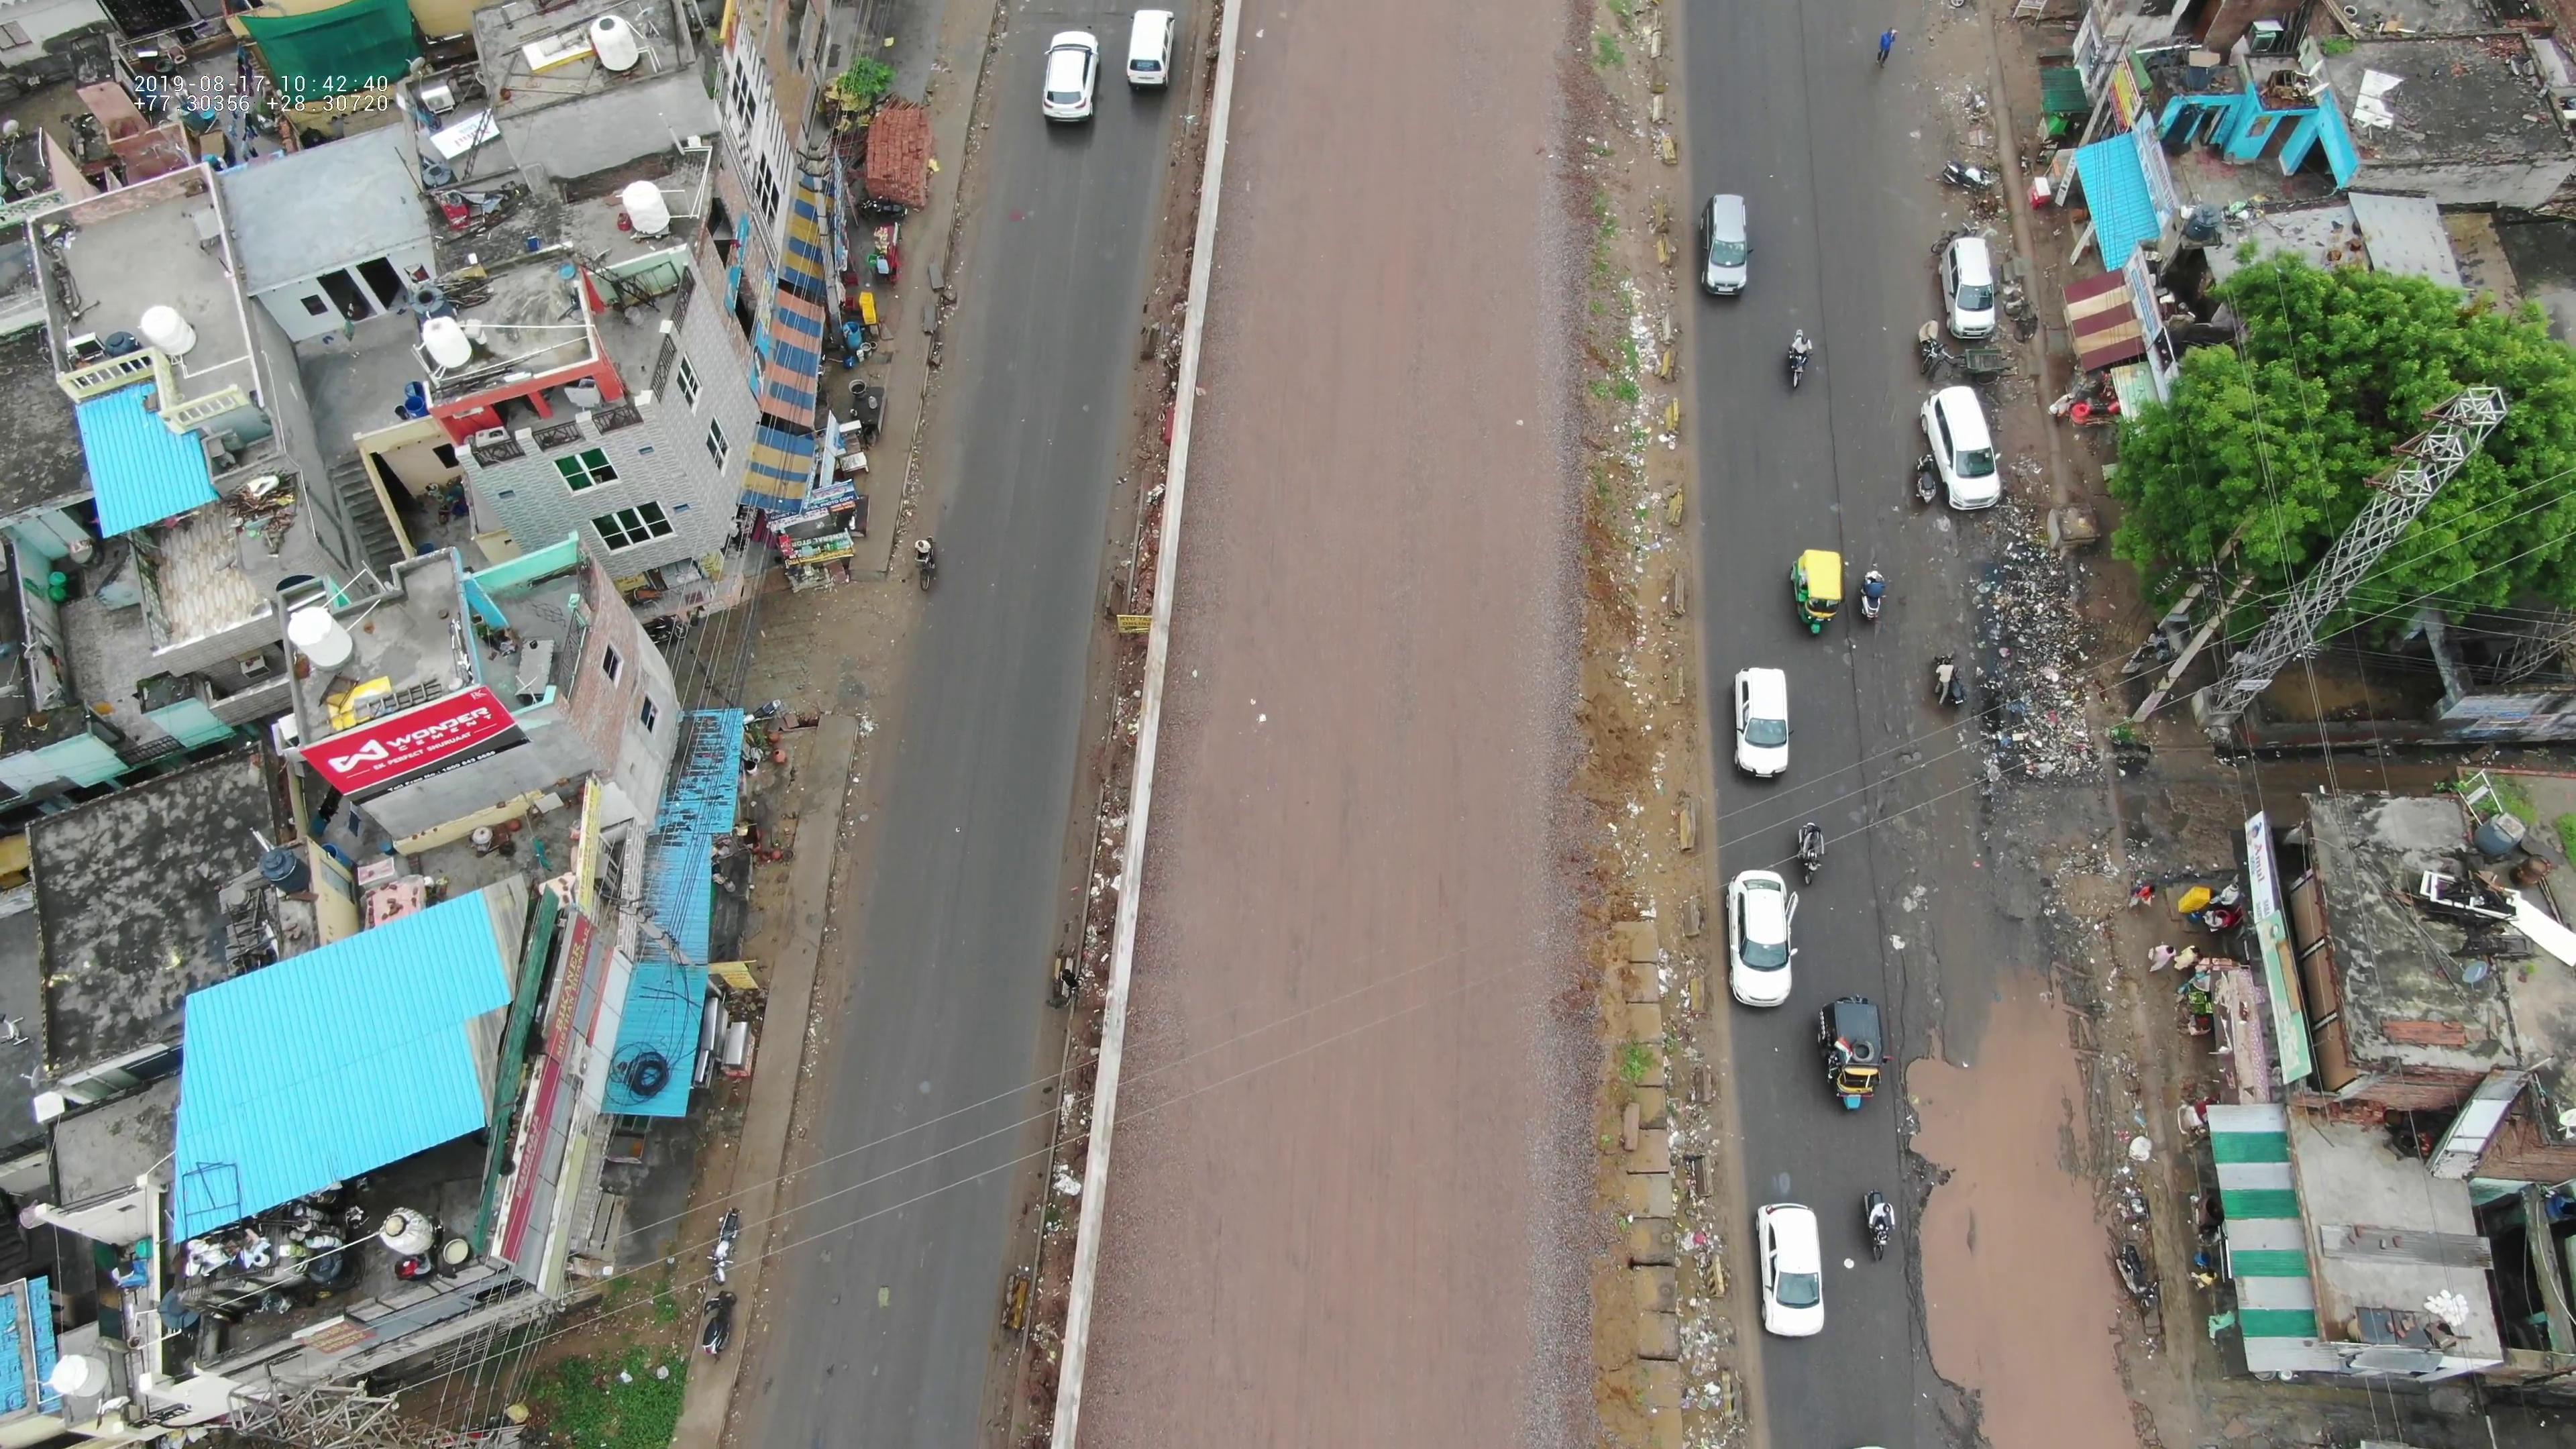Road_side_garbage: (1994, 548, 2093, 787)
Waterlogging: (1897, 1008, 2107, 1440)
